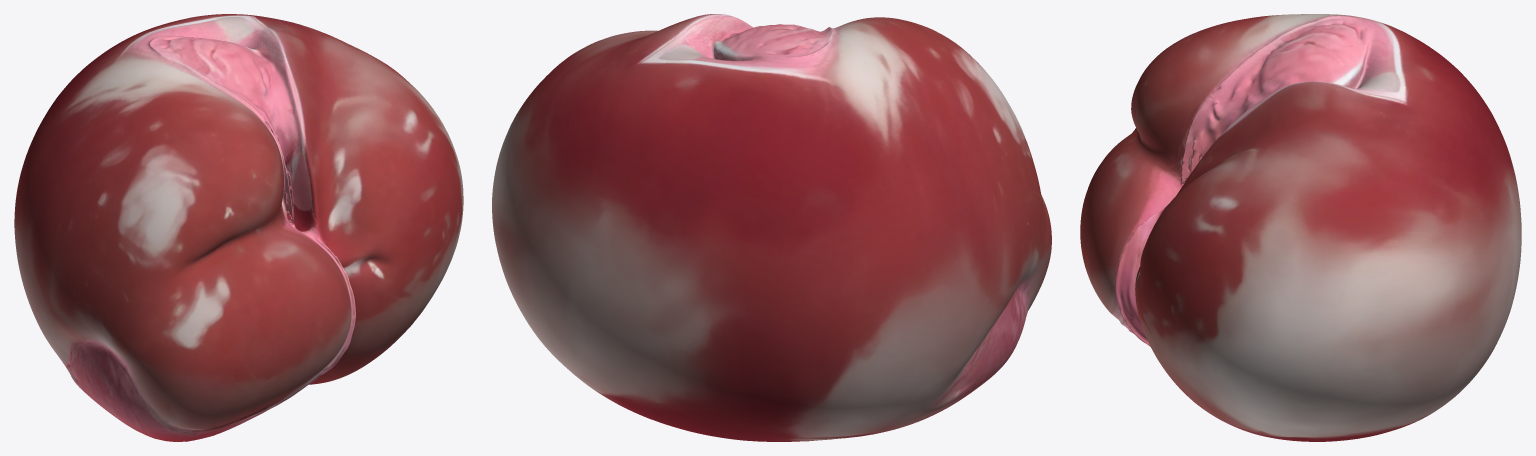
The model's file is vet_v2_path_fatty-liver.glb.
3 renders of one model, left to right at view 1: azimuth 30°, elevation 25°; view 2: azimuth 150°, elevation 25°; view 3: azimuth 270°, elevation 25°, orthographic. The views are drawn at different scales.
Visible parts, largest first — view 1: model; view 2: model; view 3: model.
Part boxes in pixels (left/top/right/bottom): model: left=14, top=14, right=463, bottom=441; model: left=492, top=14, right=1051, bottom=441; model: left=1080, top=14, right=1521, bottom=441.
Bounding box in the file's own units: 1.9 × 1.52 × 1.69.
1 material, 1 textured.
